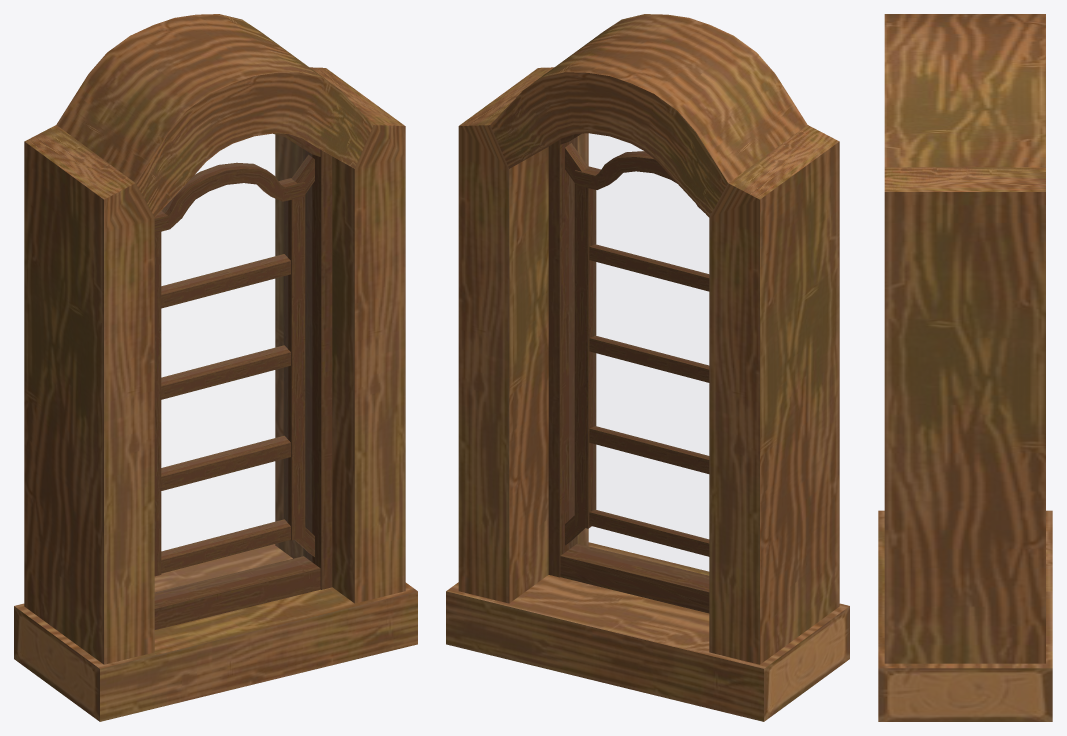
The model's file is Window_Thin_Round3.gltf.
3 renders of one model, left to right at view 1: azimuth 30°, elevation 25°; view 2: azimuth 150°, elevation 25°; view 3: azimuth 270°, elevation 25°, orthographic.
Parts seen in each view (by area): view 1: Window_Thin_Round3; view 2: Window_Thin_Round3; view 3: Window_Thin_Round3.
Part boxes in pixels (bbox=[...]): Window_Thin_Round3: bbox=[14, 14, 417, 721]; Window_Thin_Round3: bbox=[446, 14, 849, 721]; Window_Thin_Round3: bbox=[878, 14, 1052, 721].
Bounding box in the file's own units: 0.883 × 1.61 × 0.4135.
2 materials, 1 textured.
